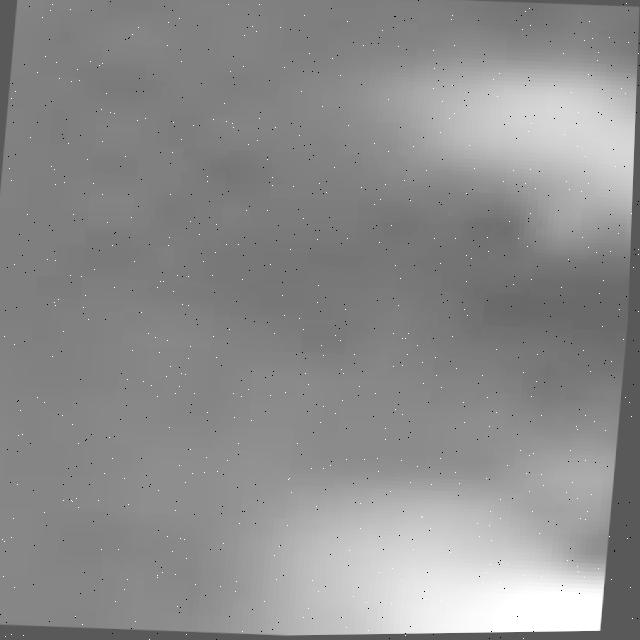person: (305, 10, 640, 267), (179, 495, 615, 639)
